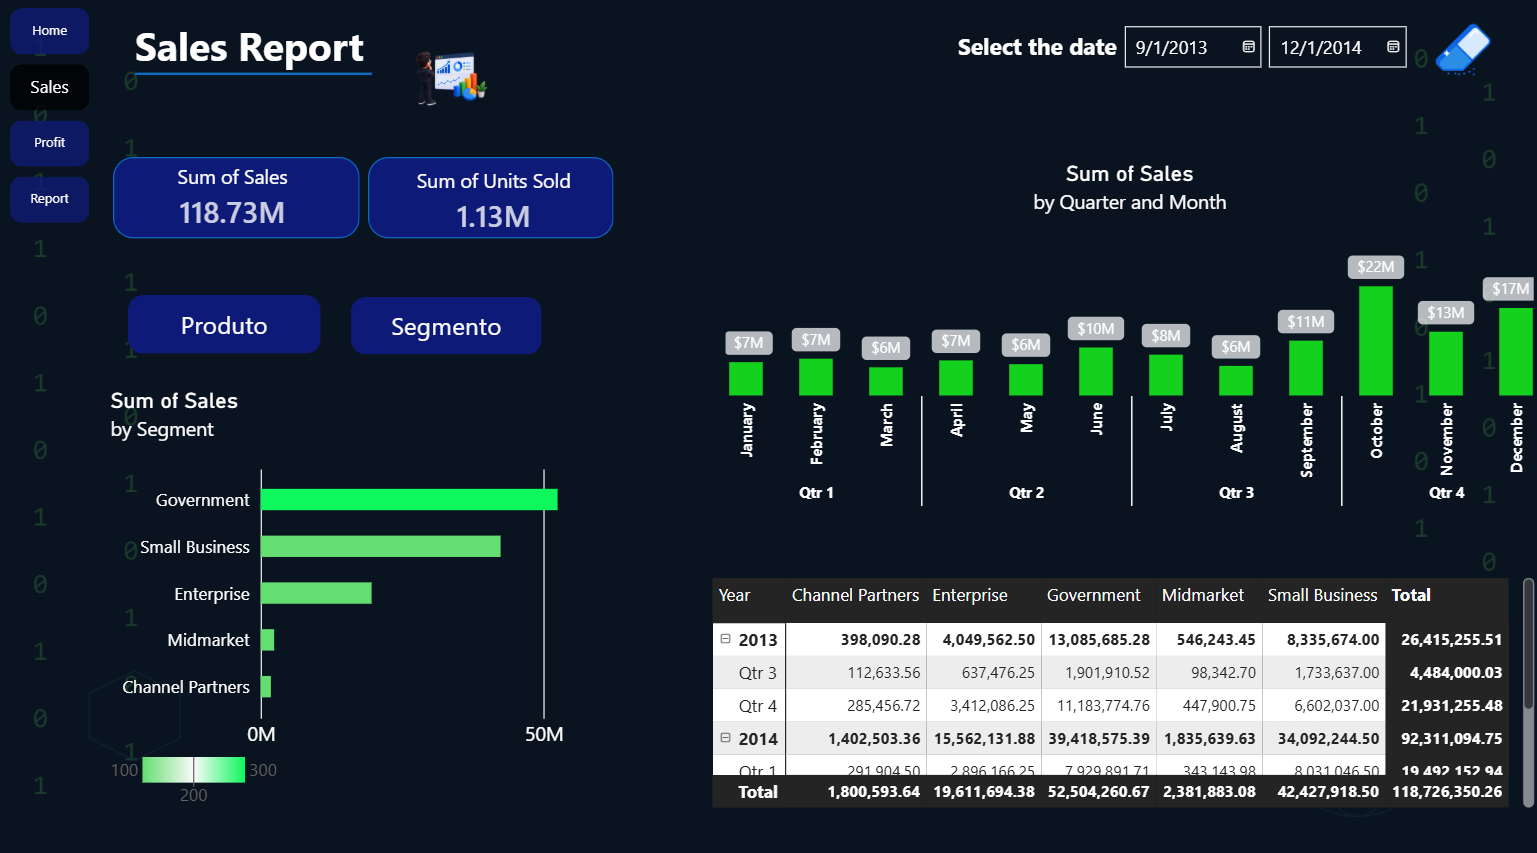

This screenshot's page, from the dashboard's own definition file:
{"tool":"powerbi","page":{"name":"Sales","canvas":[1280,720],"ordinal":1},"visuals":[{"type":"slicer","fields":{"Values":["financials.Date"]},"box":[914.2,16.6,329.1,45.4],"z":0,"group":"g2"},{"type":"shape","box":[93.7,128.3,202,66.7],"z":0,"group":"g1"},{"type":"clusteredBarChart","fields":{"Category":["financials.Segment"],"Y":["Sum(financials.Sales)"]},"box":[74.9,303.6,448.9,372.1],"z":0,"group":"g3"},{"type":"textbox","box":[785.5,25.9,141.9,29.9],"z":1000,"group":"g2"},{"type":"shape","box":[302.6,128.3,201.2,66.7],"z":1000,"group":"g1"},{"type":"actionButton","title":"B-Produto","box":[105.3,241.9,157.8,48.1],"z":1000,"group":"g3"},{"type":"group","id":"g1","title":"Cartões","box":[93.7,128.3,410.1,66.7],"z":2000},{"type":"actionButton","title":"B-Segmento","box":[288.4,243.4,156.1,47.1],"z":2000,"group":"g3"},{"type":"textbox","box":[111.4,14.3,263.3,47.3],"z":3000},{"type":"shape","box":[111.4,51.5,194.1,17.7],"z":4000},{"type":"lineStackedColumnComboChart","fields":{"Category":["financials.Date.Variation.Date Hierarchy.Quarter","financials.Date.Variation.Date Hierarchy.Month"],"Y":["Sum(financials.Sales)"]},"box":[578.8,117.3,694.4,319.8],"z":5000},{"type":"cardVisual","fields":{"Data":["Sum(financials.Sales)"]},"box":[107.2,129.5,168.8,65],"z":6000},{"type":"cardVisual","fields":{"Data":["Sum(financials.Units Sold)"]},"box":[320.3,131.9,170.7,67.1],"z":7000},{"type":"group","id":"g2","title":"Filtro por data","box":[785.5,16.6,457.8,45.4],"z":8000},{"type":"image","box":[1173.6,17.7,51.8,44.9],"z":9000},{"type":"actionButton","box":[1164.7,19.9,70.7,44.5],"z":10000},{"type":"image","box":[304.6,0.8,128.3,127.4],"z":11000},{"type":"group","id":"g3","title":"Group 1","box":[74.3,241.9,449.7,452.1],"z":13000},{"type":"pivotTable","fields":{"Columns":["financials.Segment"],"Rows":["financials.Date.Variation.Date Hierarchy.Year","financials.Date.Variation.Date Hierarchy.Quarter"],"Values":["Sum(financials.Sales)"]},"box":[568.7,459.9,704.5,217.7],"z":14000},{"type":"pageNavigator","box":[9.3,6.8,65.4,179.5],"z":15000}]}

Visuals, with their boxes in screenshot pixels (x1, y1, x2, y2), scaled from the page's 1280x720 canvas onto the 1537x853 screenshot:
slicer - financials.Date: select_region(1098, 20, 1493, 73)
shape: select_region(113, 152, 355, 231)
clusteredBarChart - financials.Segment x Sum(financials.Sales): select_region(90, 360, 629, 801)
textbox: select_region(943, 31, 1114, 66)
shape: select_region(363, 152, 605, 231)
"B-Produto" actionButton: select_region(126, 287, 316, 344)
"Cartões" group: select_region(113, 152, 605, 231)
"B-Segmento" actionButton: select_region(346, 288, 534, 344)
textbox: select_region(134, 17, 450, 73)
shape: select_region(134, 61, 367, 82)
lineStackedColumnComboChart - financials.Date.Variation.Date Hierarchy.Quarter x financials.Date.Variation.Date Hierarchy.Month: select_region(695, 139, 1529, 518)
cardVisual - Sum(financials.Sales): select_region(129, 153, 331, 230)
cardVisual - Sum(financials.Units Sold): select_region(385, 156, 590, 236)
"Filtro por data" group: select_region(943, 20, 1493, 73)
image: select_region(1409, 21, 1471, 74)
actionButton: select_region(1399, 24, 1483, 76)
image: select_region(366, 1, 520, 152)
"Group 1" group: select_region(89, 287, 629, 822)
pivotTable - financials.Segment x financials.Date.Variation.Date Hierarchy.Year: select_region(683, 545, 1529, 803)
pageNavigator: select_region(11, 8, 90, 221)
